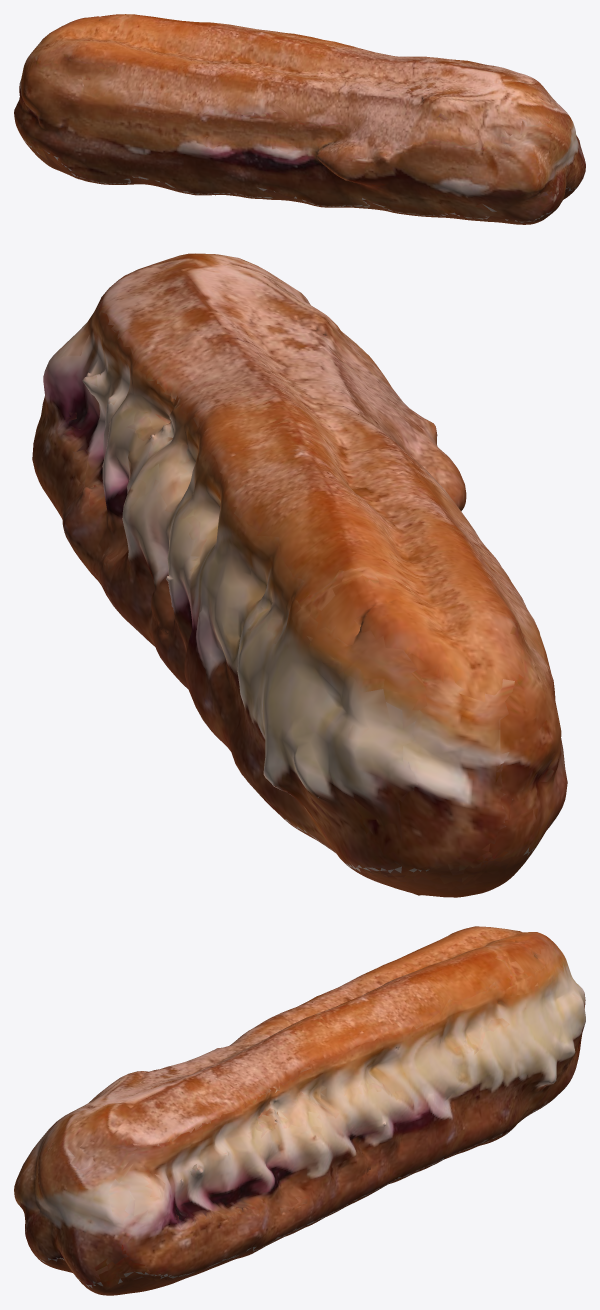
File: eclaire_16278.obj
3 views of the same model, one above another, from view 1: azimuth 30°, elevation 25°; view 2: azimuth 150°, elevation 25°; view 3: azimuth 270°, elevation 25° (orthographic). The views are drawn at different scales.
Size of the model in its own units: 93.82 by 31.6 by 91.29.
Materials: 1 (1 with a texture image).
